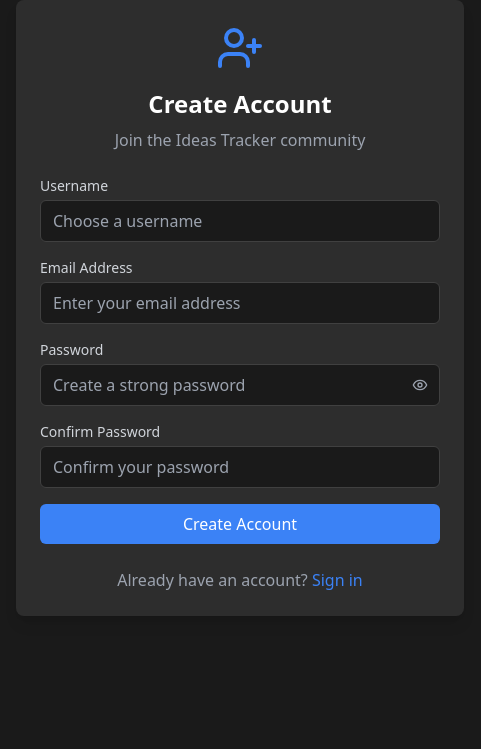
Test: RegisterForm › shows validation error for weak password
Type "weakpass" into the password field labelled "Password" at (240,385), box top-left (40, 364), bottom-right (440, 406)
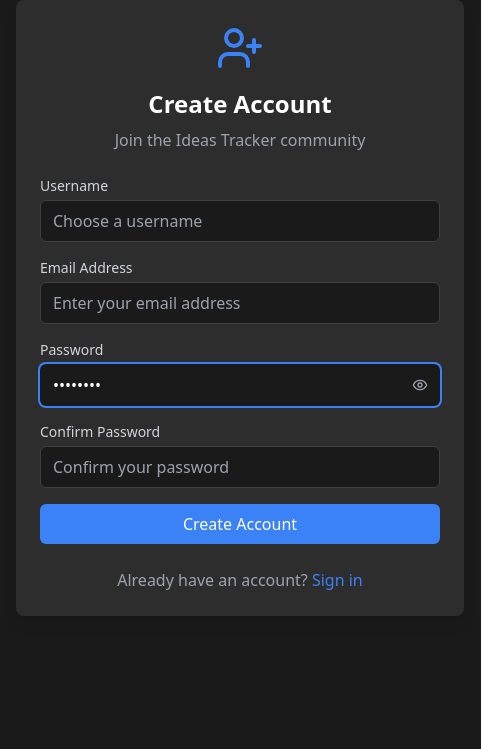
Click the button "Create Account" at (240,524), box top-left (40, 504), bottom-right (440, 544)
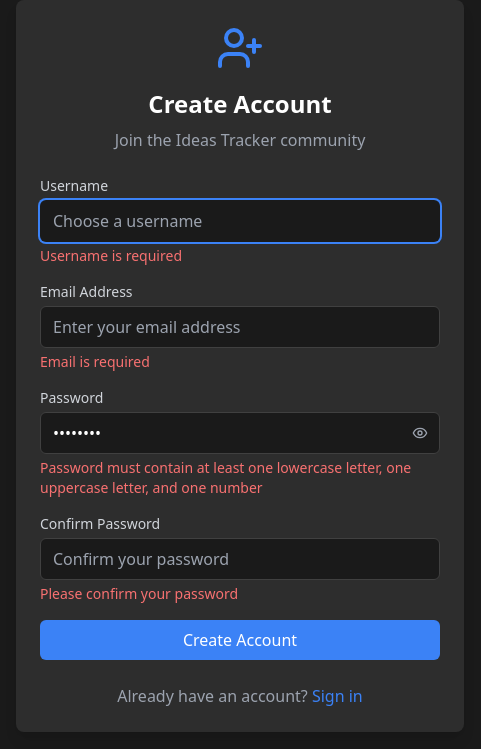
Expected: the text "Password must contain at least one lowercase letter, one uppercase letter, and one number" is shown, top-left (40, 458), bottom-right (411, 497)
